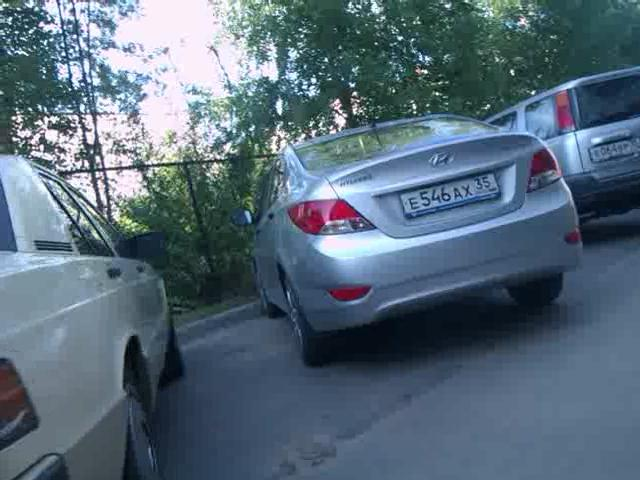car license plate: (401, 167, 499, 225), (588, 135, 636, 169)
